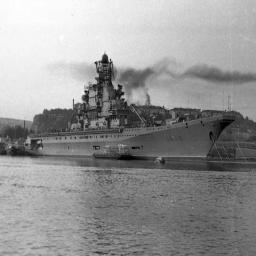Portanaves: (24, 50, 238, 164)
